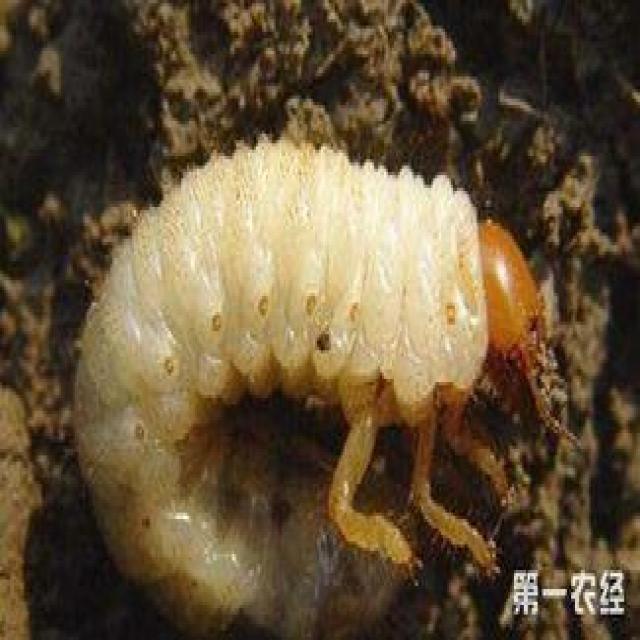Grub-Adult-: (53, 150, 556, 634)
